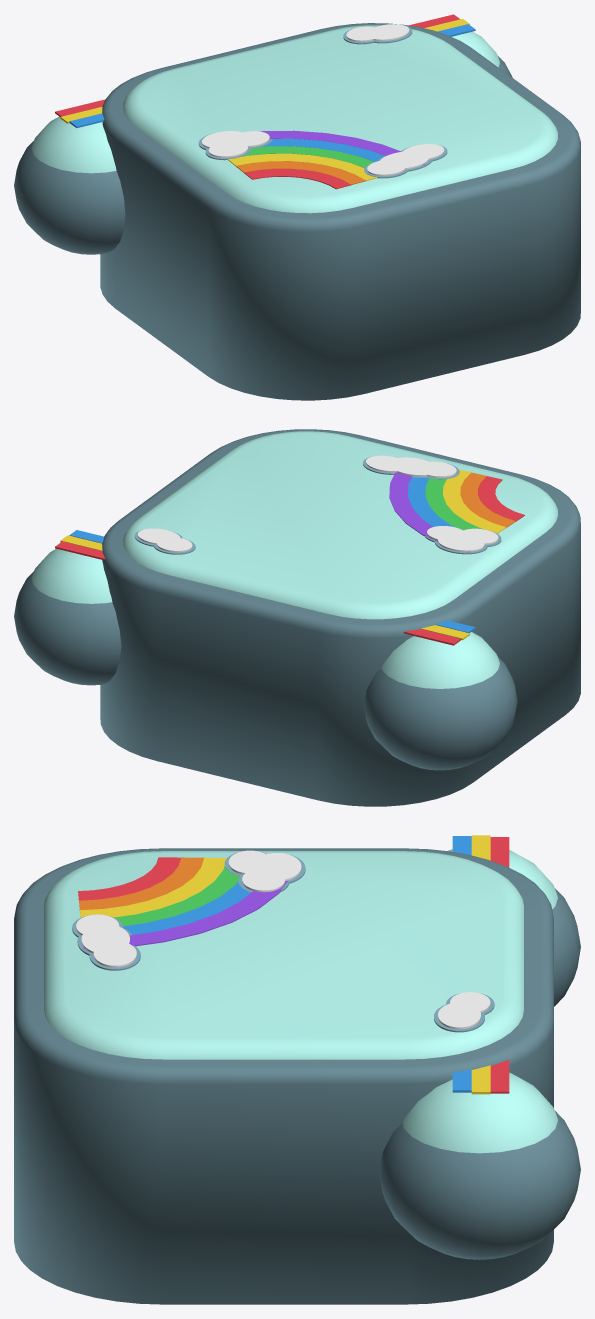
Rendered from body_estampa_arco_iris.fbx.
The picture shows the model from 3 angles, top to bottom: view 1: azimuth 30°, elevation 25°; view 2: azimuth 150°, elevation 25°; view 3: azimuth 270°, elevation 25°; orthographic projection. The views are drawn at different scales.
Parts seen in each view (by area): view 1: body_estampa_arco_iris_corpo, body_estampa_arco_iris_mao_esq, body_estampa_arco_iris_mao; view 2: body_estampa_arco_iris_corpo, body_estampa_arco_iris_mao_esq, body_estampa_arco_iris_mao; view 3: body_estampa_arco_iris_corpo, body_estampa_arco_iris_mao, body_estampa_arco_iris_mao_esq.
Boxes of the visible parts, x1,y1,x2,y2 form: body_estampa_arco_iris_corpo: (100,23,580,400); body_estampa_arco_iris_mao_esq: (14,99,125,254); body_estampa_arco_iris_mao: (409,14,512,77); body_estampa_arco_iris_corpo: (100,429,580,806); body_estampa_arco_iris_mao_esq: (364,620,517,770); body_estampa_arco_iris_mao: (14,530,121,685); body_estampa_arco_iris_corpo: (14,848,553,1304); body_estampa_arco_iris_mao: (379,1059,580,1259); body_estampa_arco_iris_mao_esq: (448,835,580,1006).
Size of the model in its own units: 5.4 by 2.03 by 4.2.
1 material, 1 textured.
